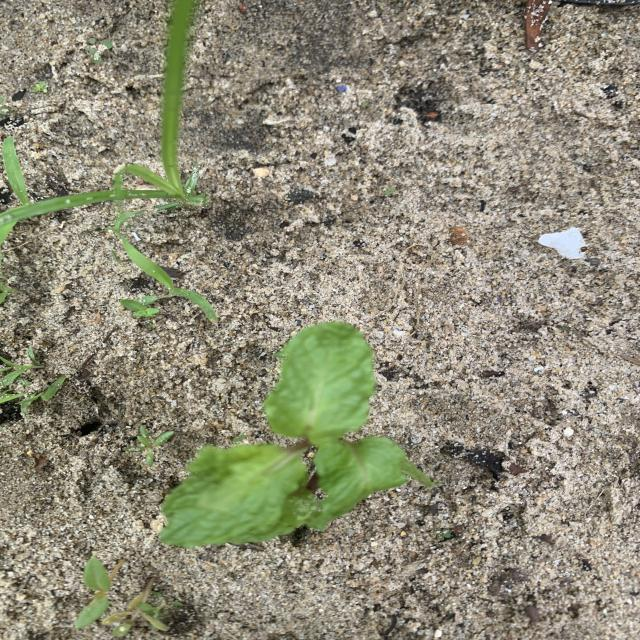crop: (166, 322, 436, 544)
weed: (0, 0, 207, 243), (120, 236, 217, 320), (102, 578, 168, 637), (76, 557, 125, 627), (0, 376, 66, 415), (0, 347, 44, 391), (125, 426, 172, 464), (121, 299, 159, 317), (434, 529, 451, 539), (382, 187, 397, 196)
